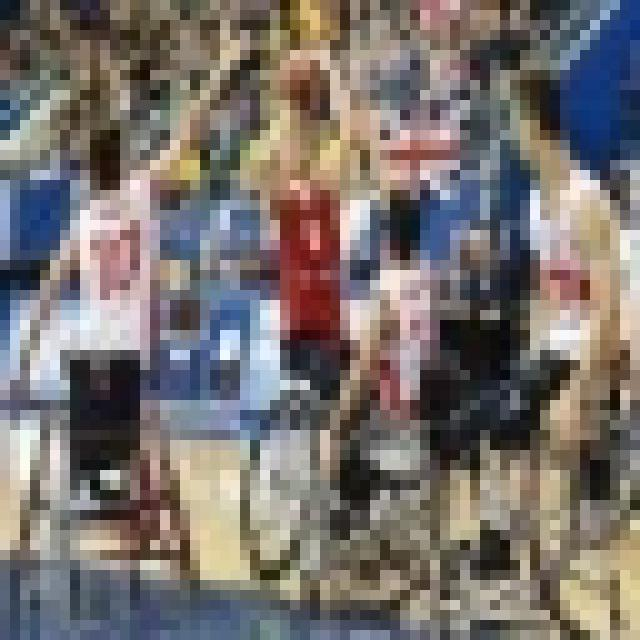wheelchairs: (409, 346, 638, 640), (10, 346, 214, 574), (240, 372, 442, 598)
